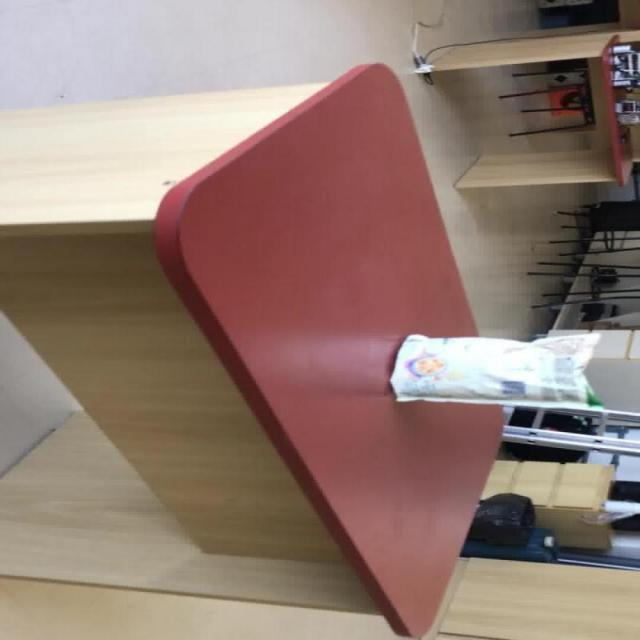CornFlakes: (387, 331, 602, 406)
